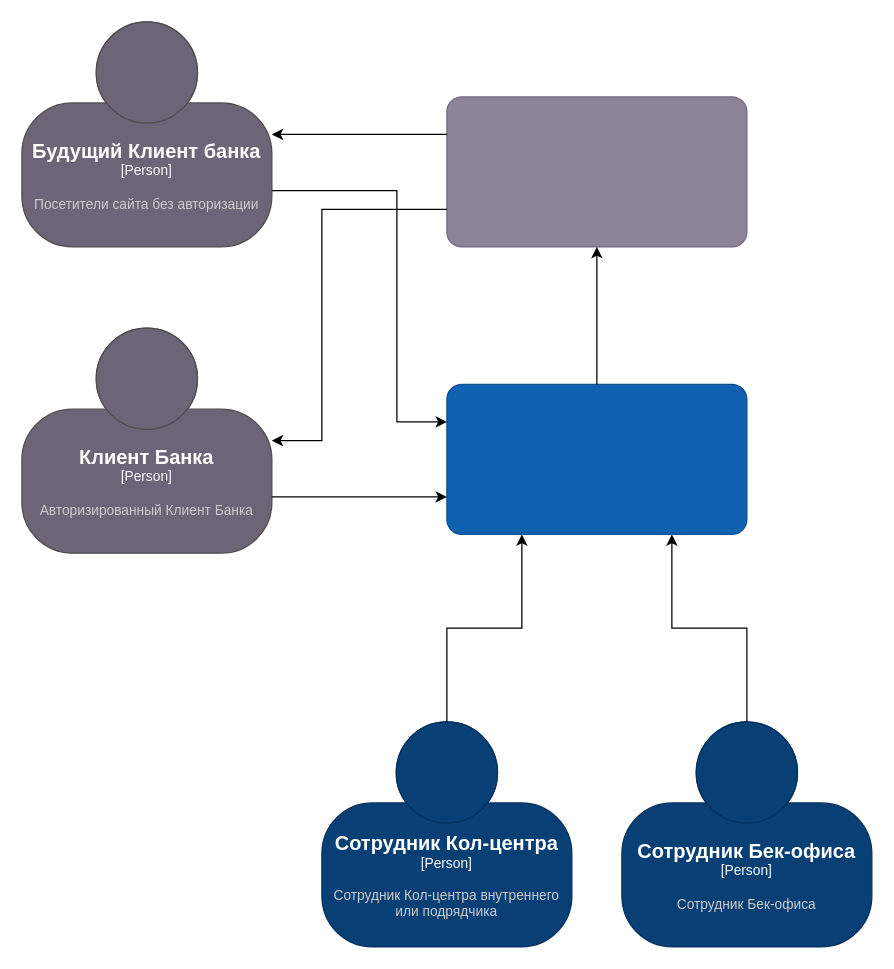
This 894x969 diagram has some shape labels left out. Each missing label, with the box of its shape:
IT Банк Стандарт [Software System] IT системы Банка Стандарт: (446, 383, 747, 534)
Телеком оператор [Software System] Телеком оператор для СМС: (446, 96, 747, 247)
